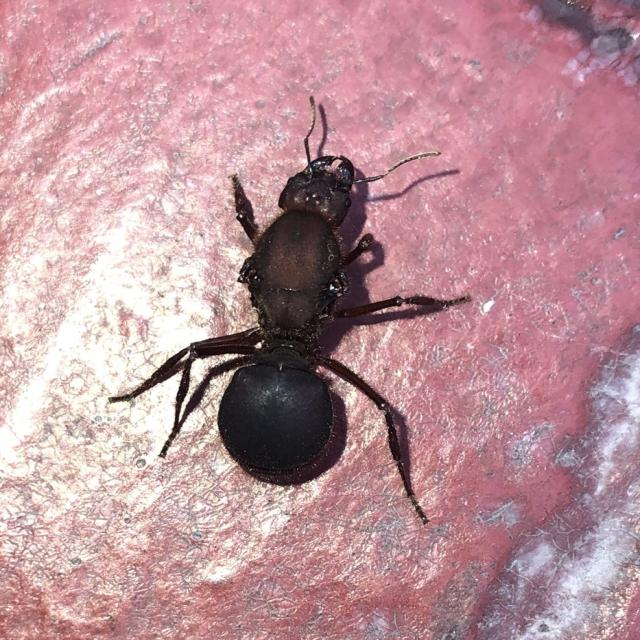Alive-Female-Dealate: (107, 95, 471, 528)
